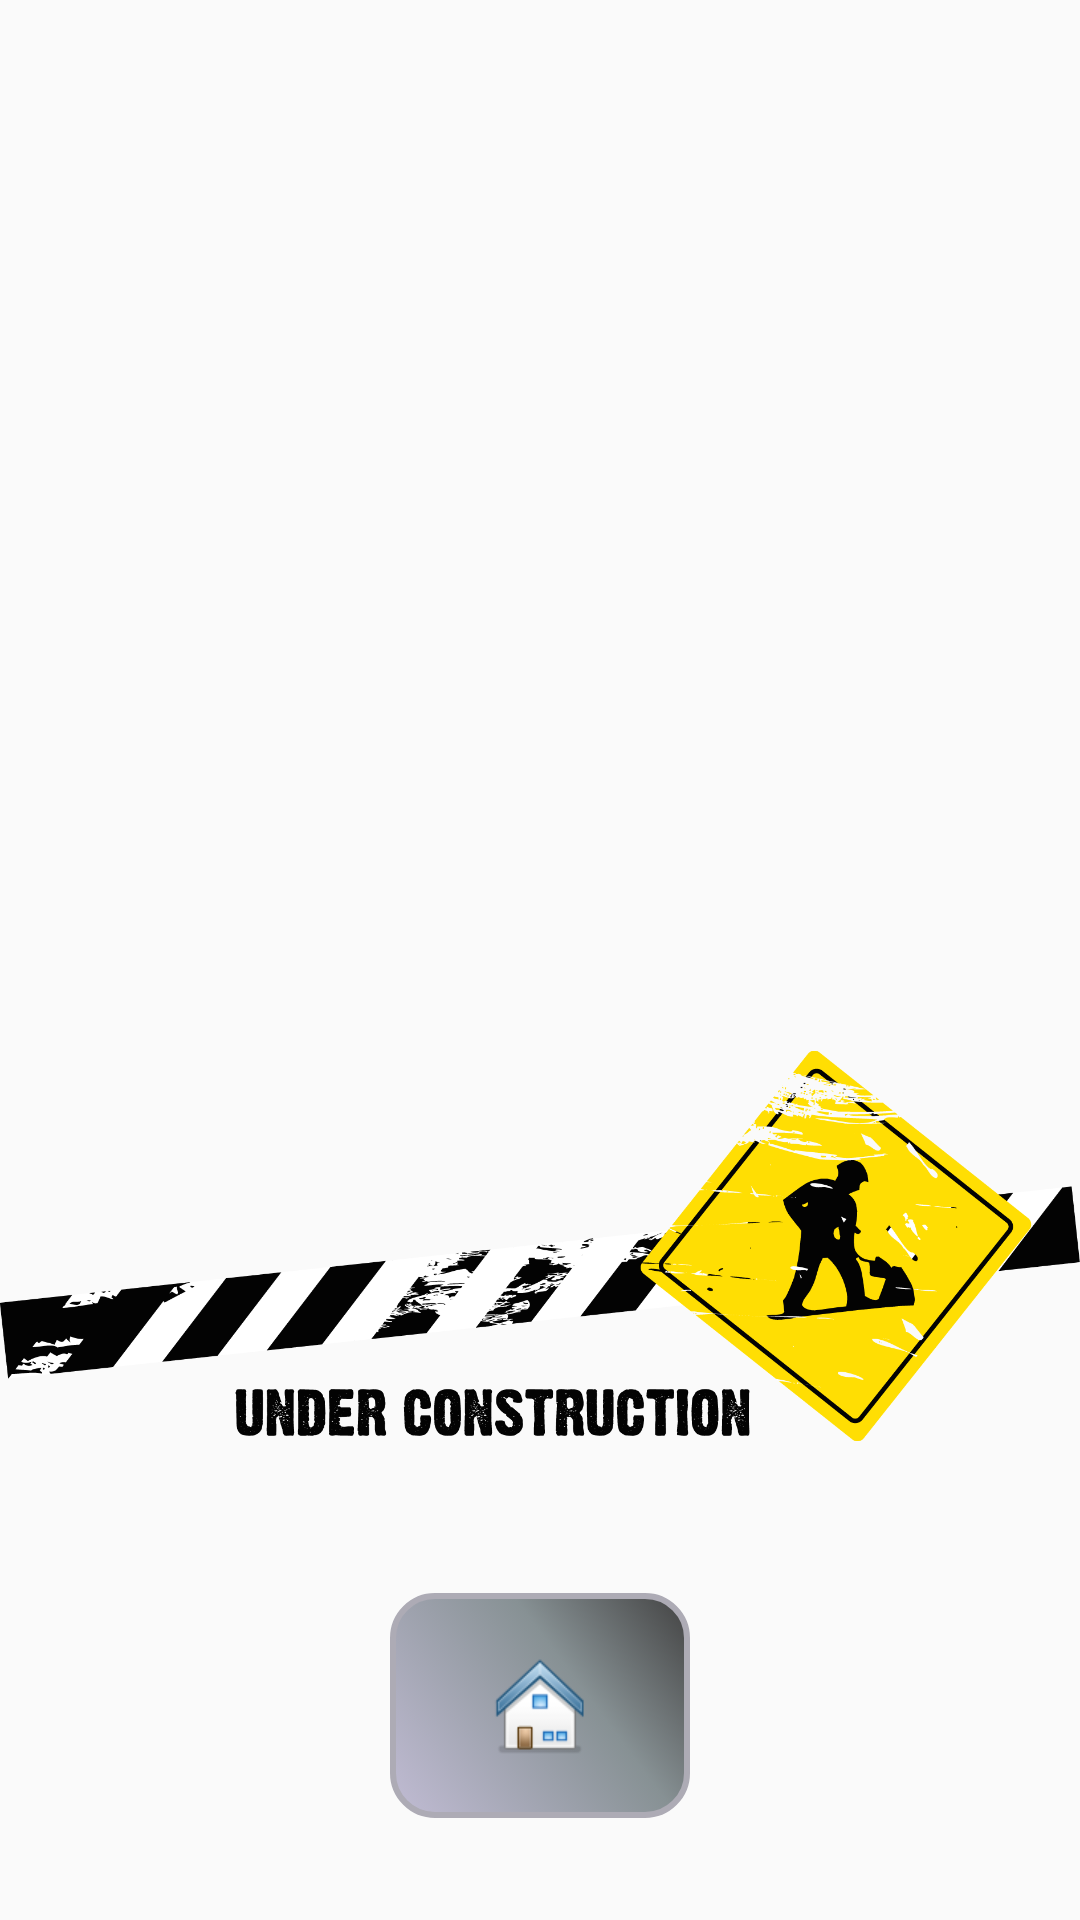

Point at icon controls on the screen. Image size 1080 x 1920, points as [x,y].
home: [540,1705]
